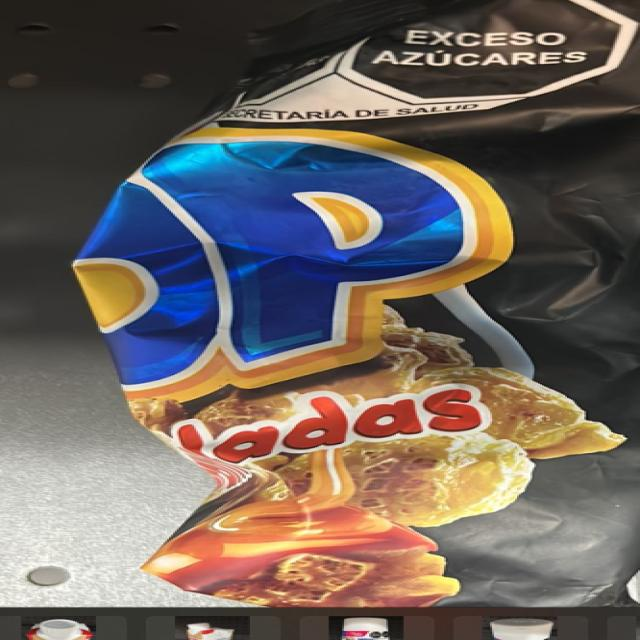popKarameladas: (132, 56, 640, 602)
